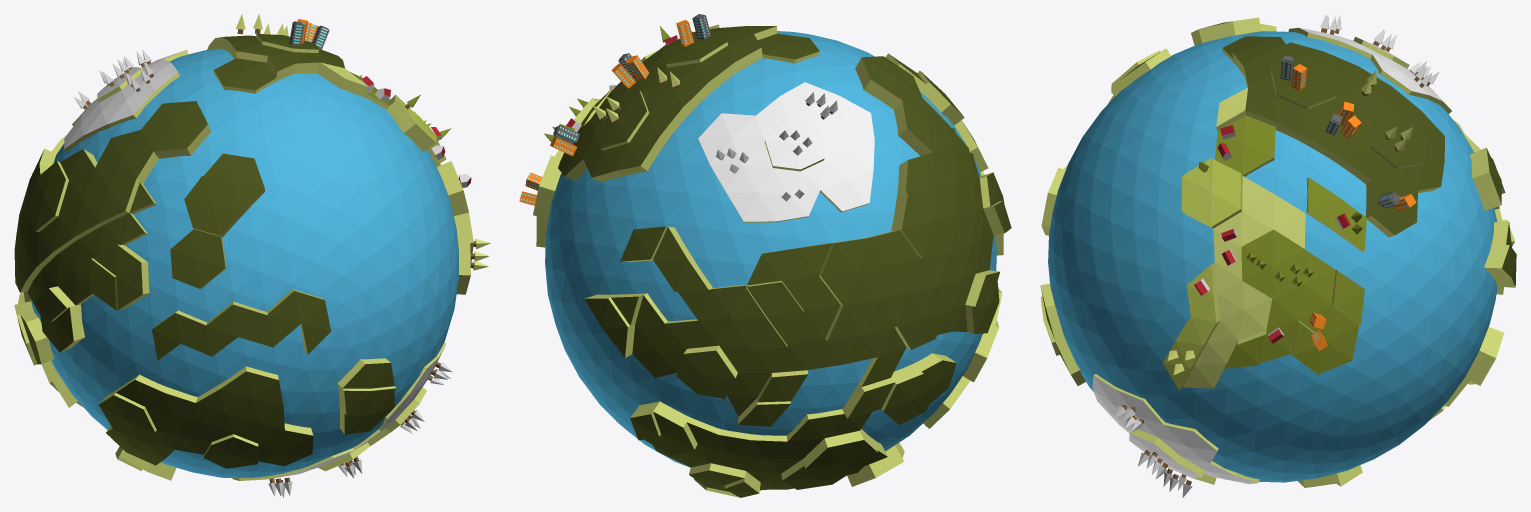
The model's file is Planeta.fbx.
3 views of the same model, side by side, from view 1: azimuth 30°, elevation 25°; view 2: azimuth 150°, elevation 25°; view 3: azimuth 270°, elevation 25° (orthographic). The views are drawn at different scales.
Parts seen in each view (by area): view 1: oceano, Planeta; view 2: Planeta, oceano; view 3: oceano, Planeta.
Boxes of the visible parts, <box> form: oceano: <box>30,48,458,477</box>; Planeta: <box>14,34,473,480</box>; Planeta: <box>533,24,1011,497</box>; oceano: <box>545,31,996,467</box>; oceano: <box>1048,31,1497,482</box>; Planeta: <box>1040,17,1516,487</box>.
Size of the model in its own units: 283 by 278 by 268.
